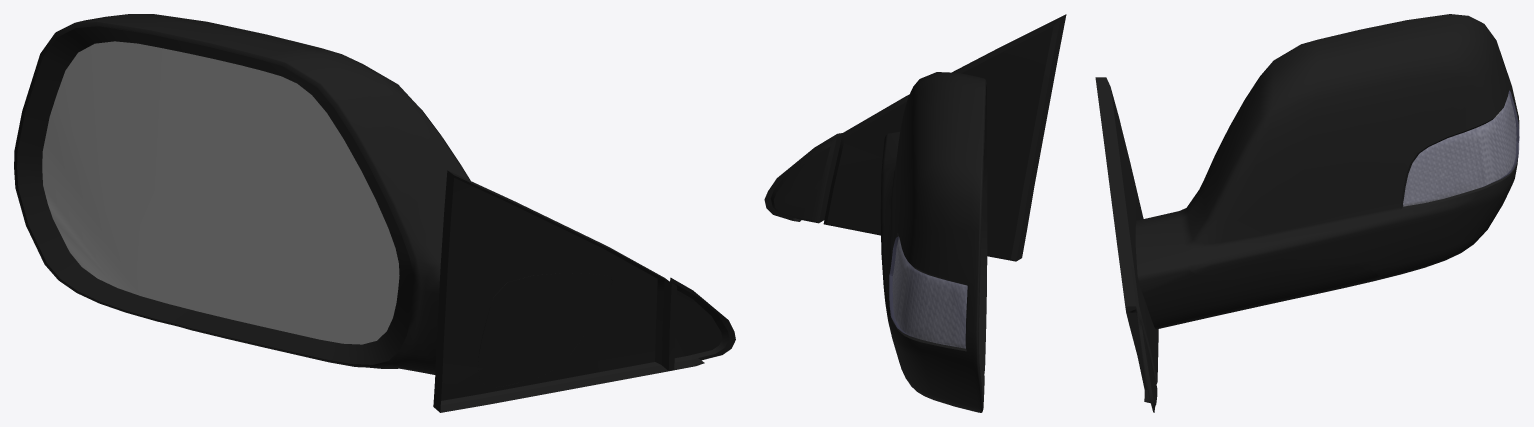
3 views of the same model, side by side, from view 1: azimuth 30°, elevation 25°; view 2: azimuth 150°, elevation 25°; view 3: azimuth 270°, elevation 25° (orthographic). The views are drawn at different scales.
Parts seen in each view (by area): view 1: H812_261I_L_H812_261I_L_3_D, H812_261I_L_H812_261I_L_2_DTaSI; view 2: H812_261I_L_H812_261I_L_3_D, H812_261I_L_H812_261I_L_4_DTaSI, H812_261I_L_1_N_H812_261I_L; view 3: H812_261I_L_H812_261I_L_3_D, H812_261I_L_H812_261I_L_4_DTaSI, H812_261I_L_1_N_H812_261I_L.
Part boxes in pixels (bbox=[...]): H812_261I_L_H812_261I_L_3_D: bbox=[14, 14, 735, 412]; H812_261I_L_H812_261I_L_2_DTaSI: bbox=[42, 41, 399, 344]; H812_261I_L_H812_261I_L_3_D: bbox=[764, 14, 1066, 412]; H812_261I_L_H812_261I_L_4_DTaSI: bbox=[889, 236, 967, 348]; H812_261I_L_1_N_H812_261I_L: bbox=[892, 238, 967, 348]; H812_261I_L_H812_261I_L_3_D: bbox=[1095, 14, 1519, 412]; H812_261I_L_H812_261I_L_4_DTaSI: bbox=[1403, 90, 1519, 206]; H812_261I_L_1_N_H812_261I_L: bbox=[1403, 93, 1516, 206].
Size of the model in its own units: 39.41 by 23.95 by 38.28.
